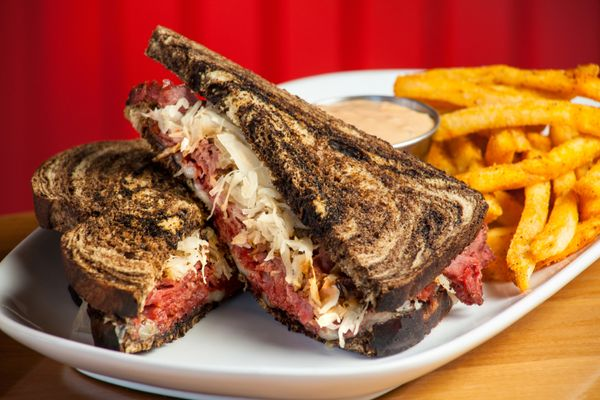soup: (45, 26, 497, 358)
sushi: (319, 94, 440, 162)
